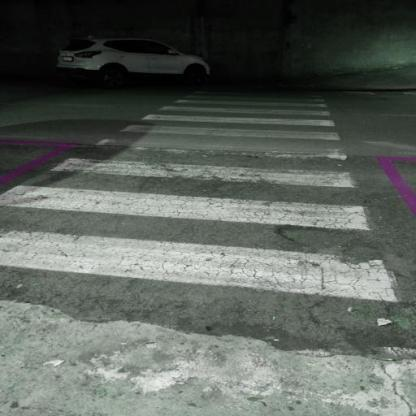crosswalk: (1, 154, 374, 235), (135, 104, 336, 128)
